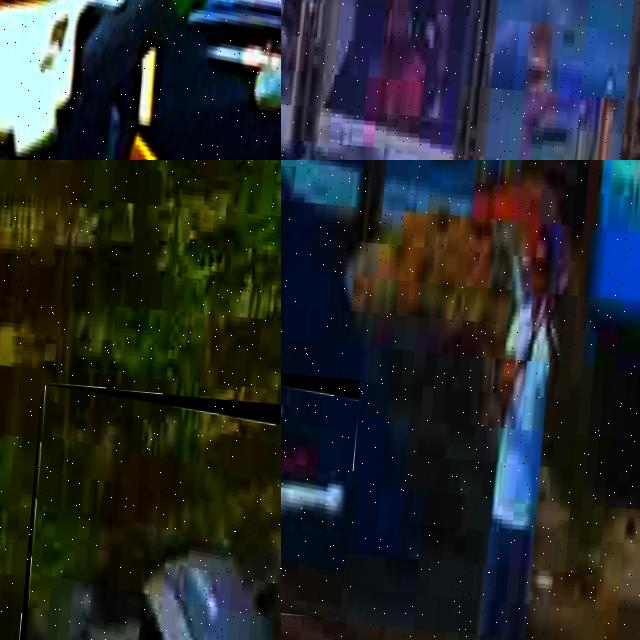drone: (16, 383, 281, 640), (0, 0, 281, 160), (281, 360, 360, 618)
